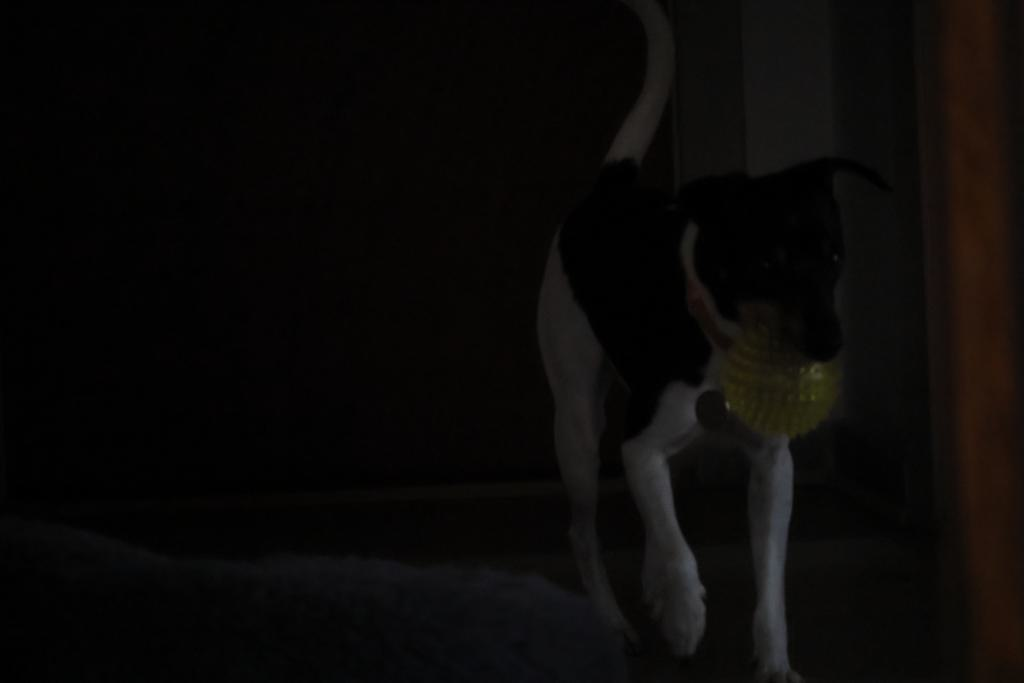Dog: (518, 0, 903, 683)
